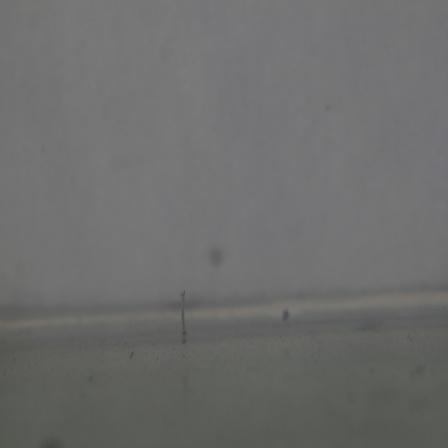Jentik-Nyamuk: (174, 285, 195, 345)
